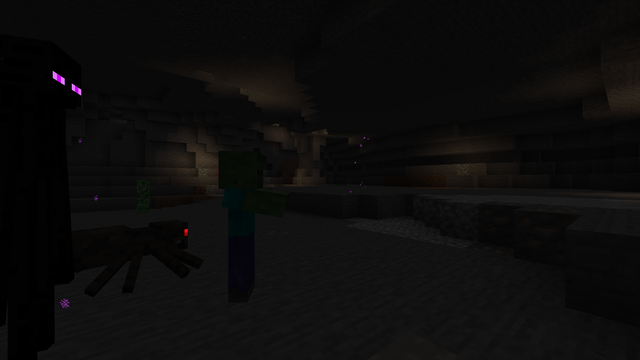araignees: (86, 213, 194, 289)
creepers: (135, 178, 150, 213)
endermens: (2, 25, 79, 358)
zombies: (213, 153, 271, 308)
